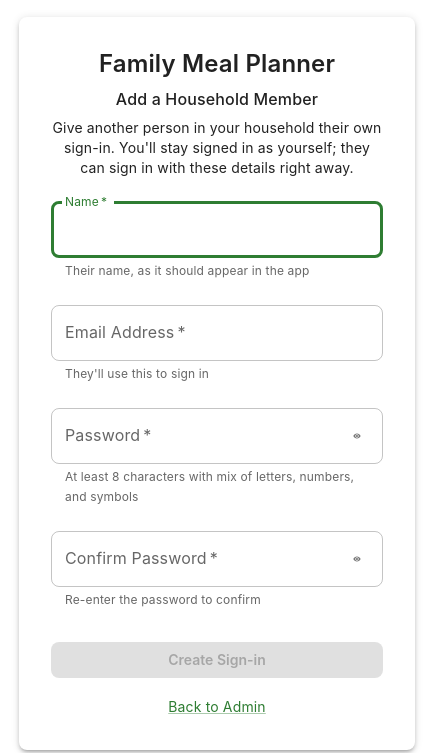
Test: Register › shows the server's reason when the sign-in can't be created
Expected: the password field labelled "Password *" is shown, [51,408,337,464]
Type "Kid" into the field with id "name" at [217, 230], box [51,202,383,258]
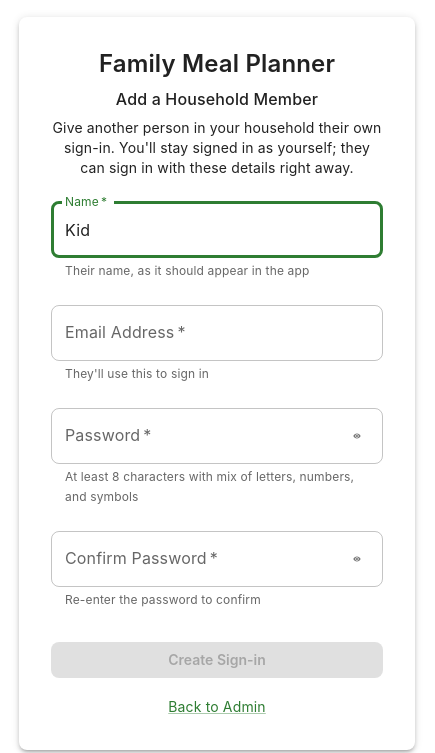
Type "kid@example.com" into the field with id "email" at [217, 333], box [51,305,383,361]
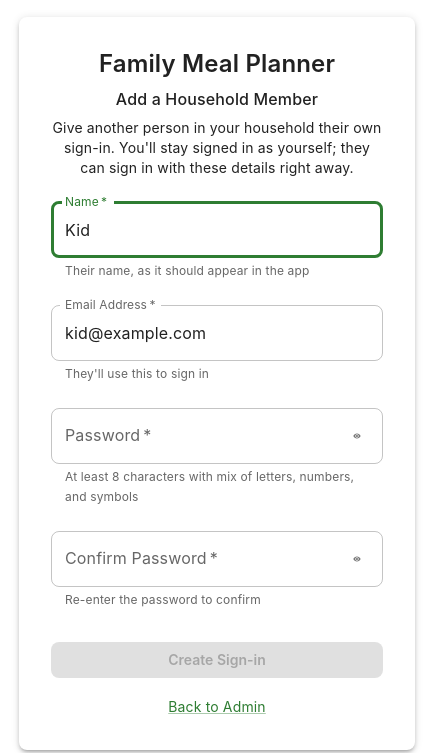
Type "Str0ng!Password" into the password field labelled "Password *" at [194, 436], box [51,408,337,464]
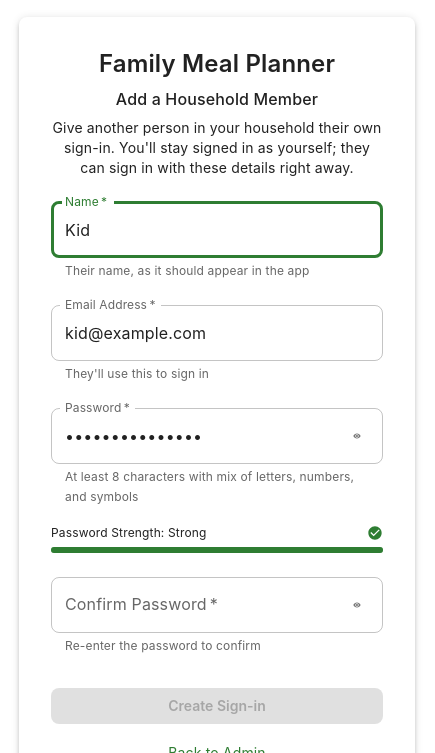
Type "Str0ng!Password" into the password field with id "confirmPassword" at [194, 605], box [51,577,337,633]
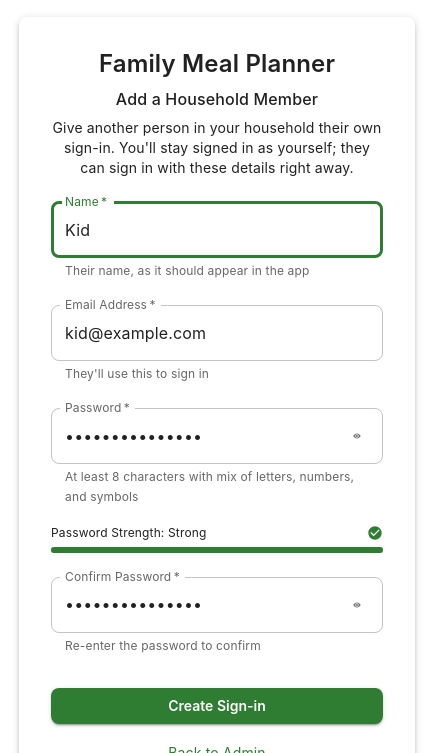
Click the button "Create Sign-in" at [217, 706], box [51,688,383,724]
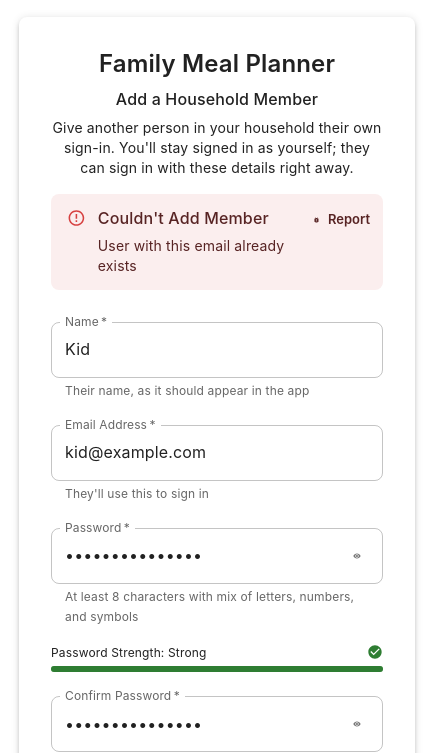
Now the text "User with this email already exists" is shown, box [98,236,294,276]
